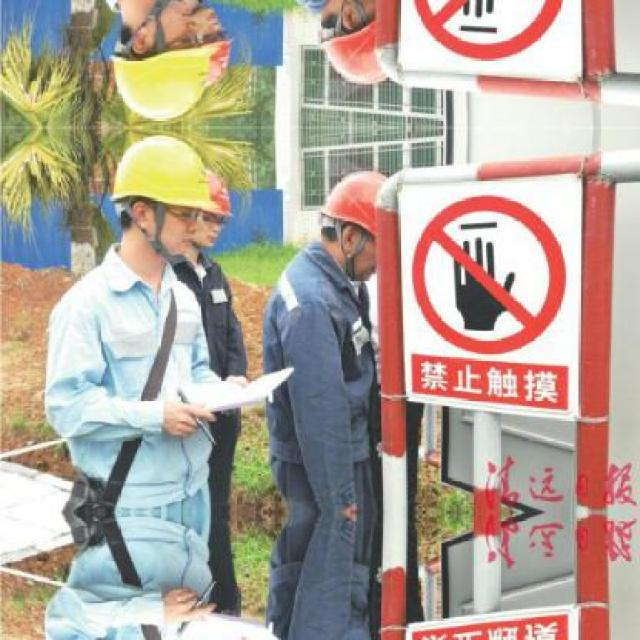helmet: (104, 130, 216, 258), (103, 0, 217, 125), (308, 162, 394, 278), (308, 0, 395, 91), (195, 1, 236, 84), (195, 168, 236, 250)
